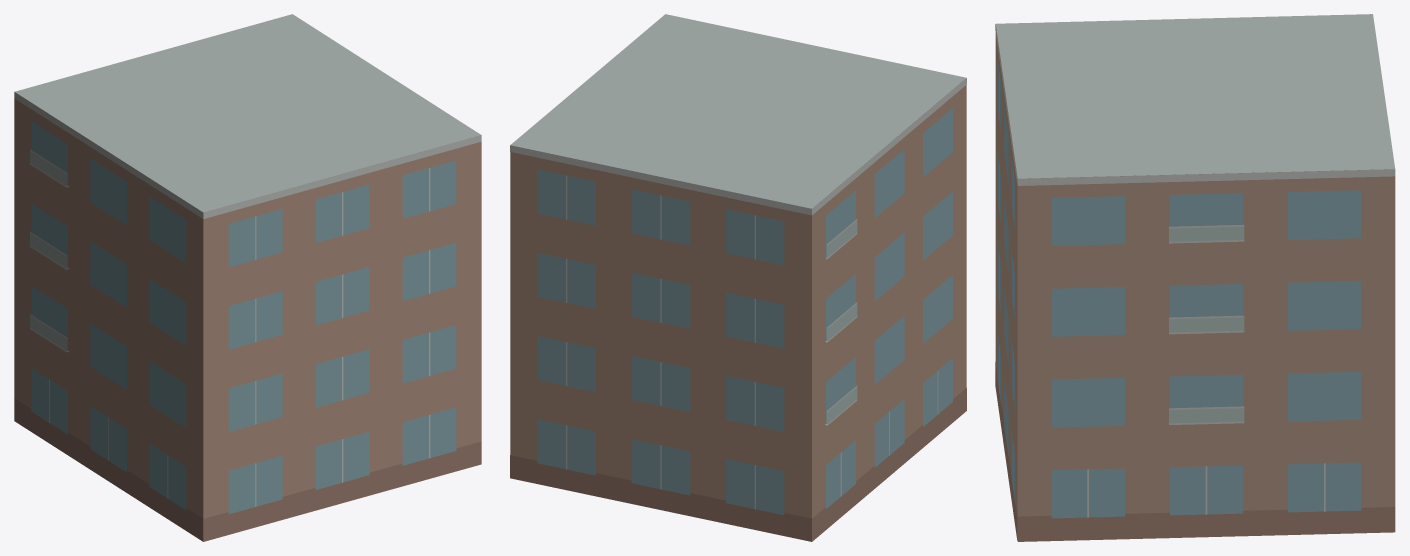
The model's file is residential-4a338229-70b8-4484-9588-50cdf634e1f6.glb.
3 renders of one model, left to right at view 1: azimuth 30°, elevation 25°; view 2: azimuth 150°, elevation 25°; view 3: azimuth 270°, elevation 25°, orthographic. The views are drawn at different scales.
Parts seen in each view (by area): view 1: residential-4a338229-70b8-4484-9588-50cdf634e1f6.tmp; view 2: residential-4a338229-70b8-4484-9588-50cdf634e1f6.tmp; view 3: residential-4a338229-70b8-4484-9588-50cdf634e1f6.tmp.
Part boxes in pixels (x1,y1,x2,y2): residential-4a338229-70b8-4484-9588-50cdf634e1f6.tmp: (14, 14, 481, 541); residential-4a338229-70b8-4484-9588-50cdf634e1f6.tmp: (510, 14, 966, 541); residential-4a338229-70b8-4484-9588-50cdf634e1f6.tmp: (995, 14, 1395, 541).
Bounding box in the file's own units: 11.87 × 12.2 × 12.18.
